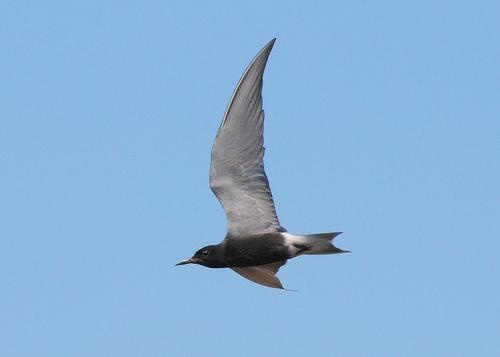bird: (173, 37, 354, 292)
